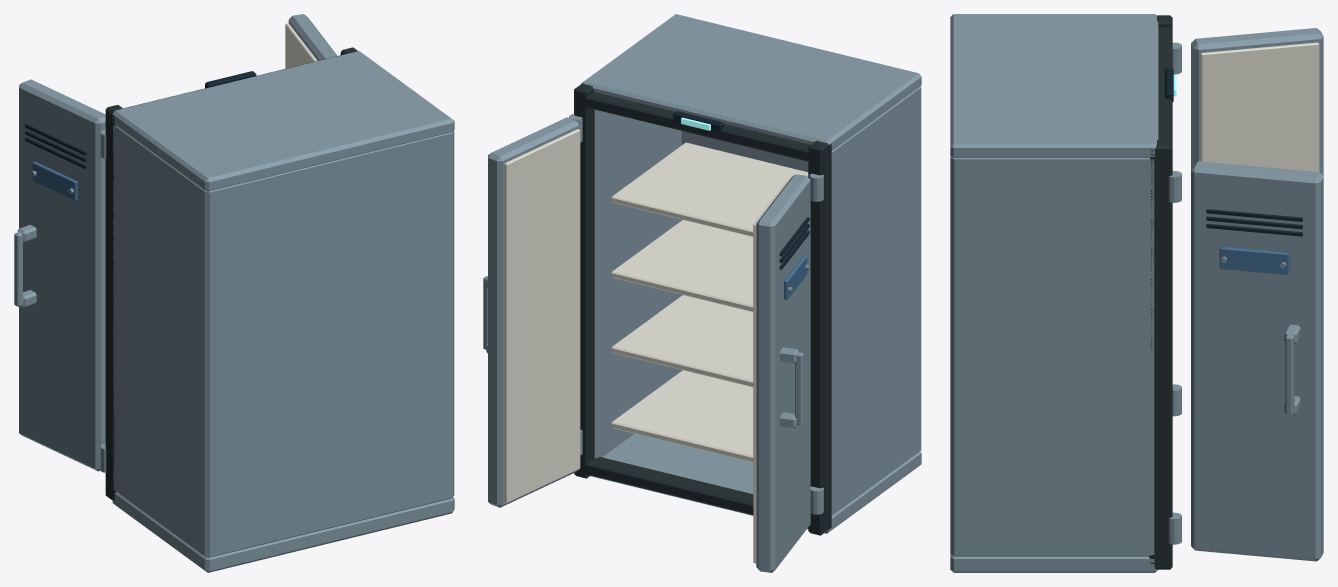
The model's file is restaurant_tall_fridge_opened.glb.
3 renders of one model, left to right at view 1: azimuth 30°, elevation 25°; view 2: azimuth 150°, elevation 25°; view 3: azimuth 270°, elevation 25°, orthographic. The views are drawn at different scales.
Parts seen in each view (by area): view 1: body_back_wall, body_side_wall (×2), moving_left_door, body_roof, body_floor, front_side_frame, moving_right_door, moving_left_cold_id_plate, moving_right_inner_panel, moving_left_handle_grip; view 2: body_side_wall (×2), interior_shelf (×4), moving_right_inner_panel, body_roof, moving_left_door, front_side_frame (×2), moving_right_door, front_cross_frame (×2), body_floor, body_back_wall, moving_left_inner_panel, moving_left_handle_grip; view 3: body_side_wall, moving_right_door, body_roof, moving_left_inner_panel, front_side_frame, moving_left_door, body_floor, body_back_wall, front_cross_frame, moving_right_cold_id_plate, moving_right_fridge_slot (×3), moving_right_handle_grip.
Part boxes in pixels (x1,y1,x2,y2): body_back_wall: (199, 132, 452, 557); body_side_wall (×2): (113, 125, 454, 557); moving_left_door: (19, 79, 105, 471); body_roof: (112, 51, 454, 191); body_floor: (112, 492, 454, 572); front_side_frame: (105, 105, 122, 500); moving_right_door: (288, 14, 337, 60); moving_left_cold_id_plate: (32, 161, 77, 201); moving_right_inner_panel: (285, 23, 317, 68); moving_left_handle_grip: (14, 232, 22, 306); body_side_wall (×2): (594, 86, 921, 515); interior_shelf (×4): (611, 142, 808, 462); moving_right_inner_panel: (504, 129, 580, 502); body_roof: (581, 14, 921, 150); moving_left_door: (756, 174, 810, 572); front_side_frame (×2): (574, 83, 831, 535); moving_right_door: (488, 117, 578, 507); front_cross_frame (×2): (574, 92, 831, 528); body_floor: (590, 433, 921, 533); body_back_wall: (681, 86, 921, 453); moving_left_inner_panel: (753, 180, 788, 563); moving_left_handle_grip: (795, 352, 803, 426); body_side_wall: (950, 156, 1154, 556); moving_right_door: (1191, 161, 1323, 561); body_roof: (950, 14, 1158, 157); moving_left_inner_panel: (1200, 42, 1319, 171); front_side_frame: (1150, 140, 1172, 569); moving_left_door: (1191, 28, 1323, 175); body_floor: (950, 554, 1157, 572); body_back_wall: (954, 158, 966, 556); front_cross_frame: (1150, 27, 1172, 163); moving_right_cold_id_plate: (1219, 246, 1289, 274); moving_right_fridge_slot (×3): (1206, 209, 1302, 236); moving_right_handle_grip: (1285, 334, 1294, 415).
Bounding box in the file's own units: 1.64 × 1.99 × 1.53.
